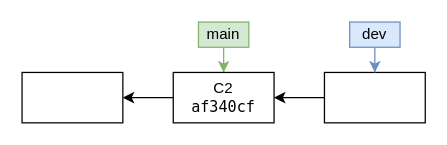
The diagram is 447 pixels wide and 145 high, and some of its shapes have lost their labels. The shapes that lost their labels are listed below. From the top down, each one's centre as x and y in pixels, then its label:
[72,97]: C1 eb082c8
[374,97]: C3 11bdc34
